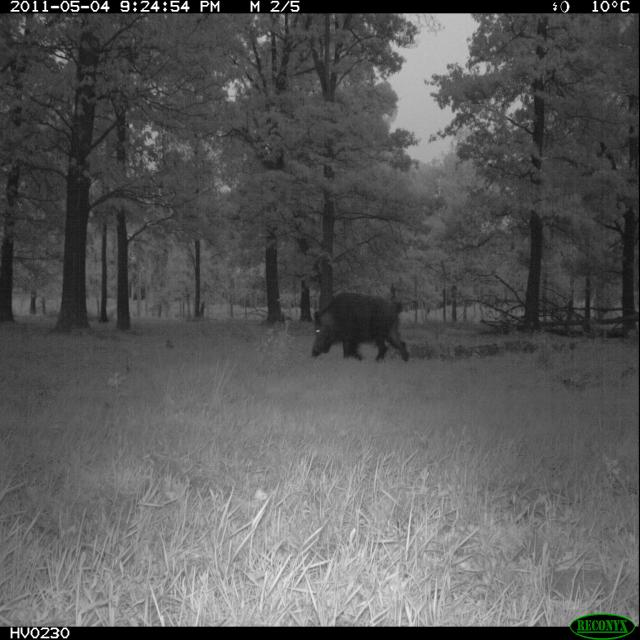boar: (288, 254, 412, 398)
